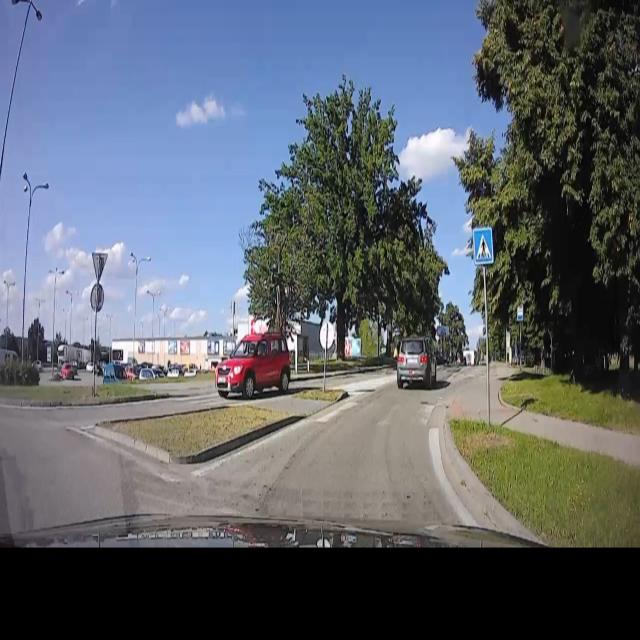Pedestrian crosswalk: (313, 391, 447, 435), (470, 222, 495, 266)
